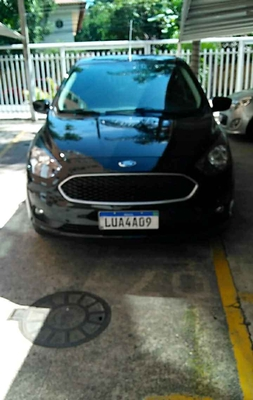Frontal Veiculo: (26, 57, 235, 243)
